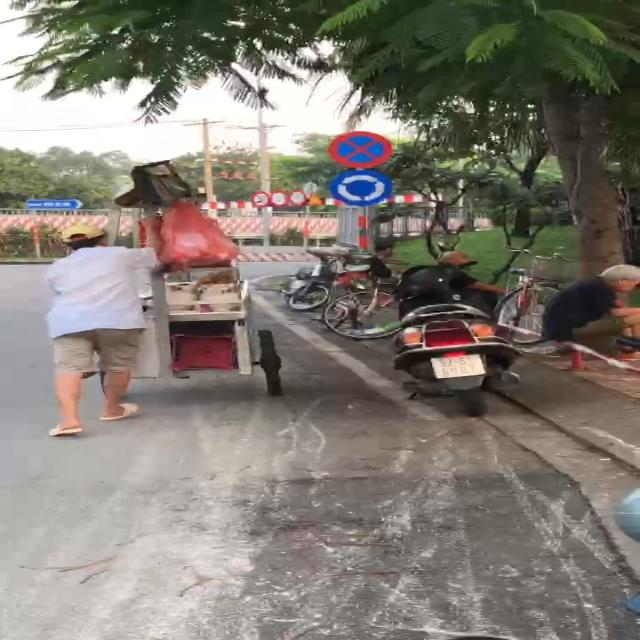Bien bao cam dung xe va do xe: (327, 128, 398, 170)
Bien bao noi giao nhau chay theo vong xuyen: (323, 168, 400, 210)
